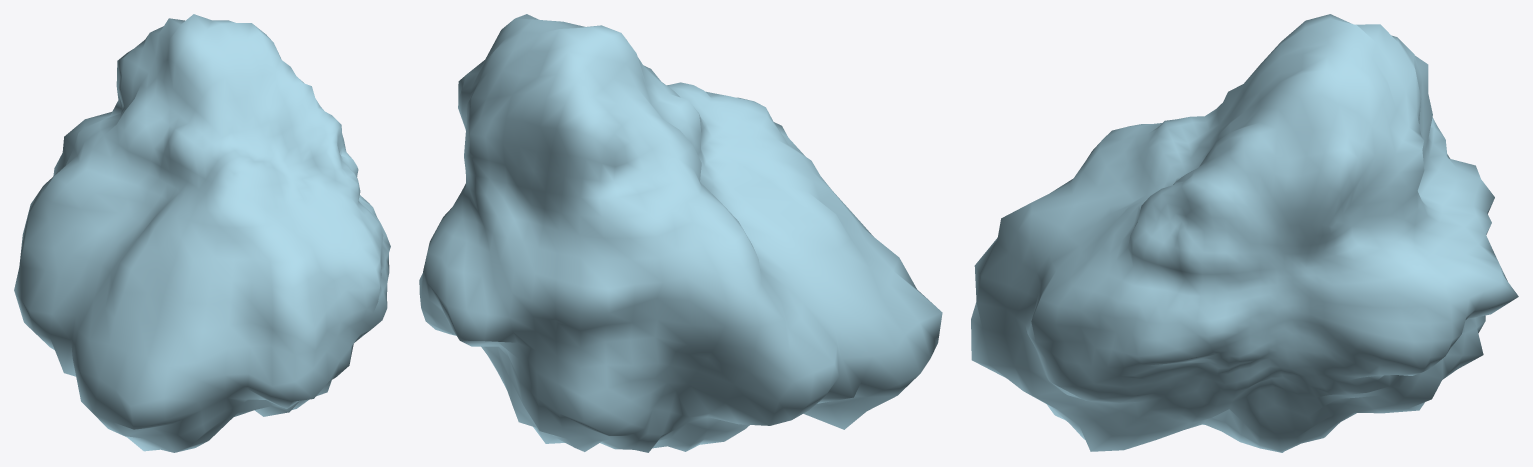
The model's file is IceOre.fbx.
3 renders of one model, left to right at view 1: azimuth 30°, elevation 25°; view 2: azimuth 150°, elevation 25°; view 3: azimuth 270°, elevation 25°, orthographic. The views are drawn at different scales.
Parts seen in each view (by area): view 1: Cube; view 2: Cube; view 3: Cube.
Part boxes in pixels (<box>): Cube: <box>14,14,390,452</box>; Cube: <box>419,14,942,452</box>; Cube: <box>971,14,1518,452</box>.
Size of the model in its own units: 257 by 275 by 307.
